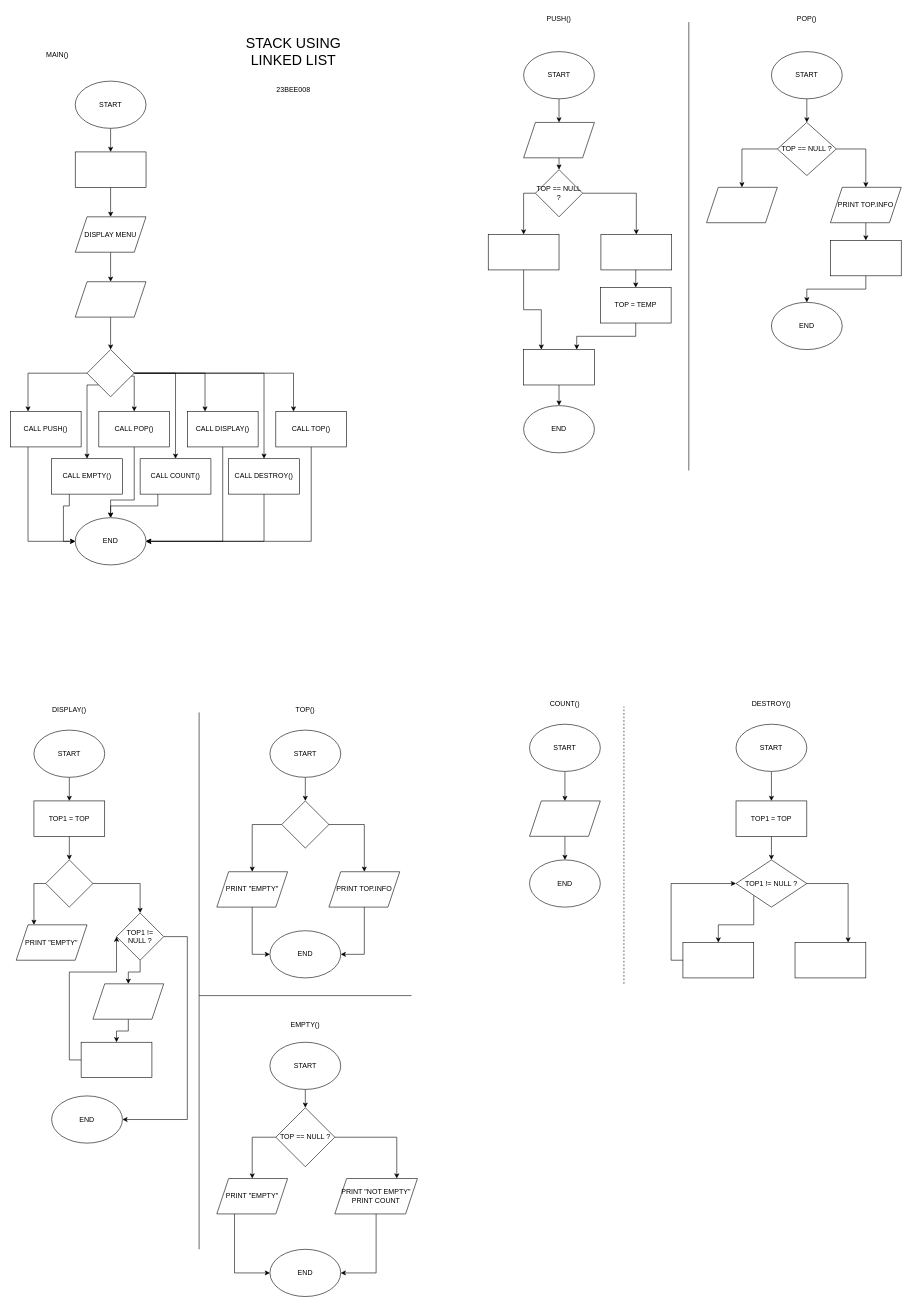
Some shapes in this 912 by 1307 pixel diagram are drawn without their labels. Here are the shapes that lost their labels. From the top down, the centre of each, then its label:
the point at 558,140: GET DATA
the point at 110,169: TOP = NULL COUNT = 0
the point at 741,205: PRINT "EMPTY STACK"
the point at 523,252: CREATE NODE TOP.INFO = DATA TOP.NEXT = NULL
the point at 636,252: CREATE TEMP NODE TEMP.INFO = DATA TEMP.NEXT = TOP
the point at 865,258: TEMP = TOP.NEXT FREE(TOP) TOP = TEMP COUNT --
the point at 110,299: READ CHOICE
the point at 110,373: CHECK CHOICE
the point at 558,367: COUNT++
the point at 305,824: TOP == NULL?
the point at 564,818: PRINT COUNT
the point at 69,883: TOP1 == NULL ?
the point at 718,960: TOP1 = TOP.NEXT FREE(TOP) TOP = TOP1 TOP1 = TOP1.NEXT
the point at 830,960: TOP = NULL COUNT = 0 PRINT "DESTROYED"
the point at 128,1001: PRINT TOP1.INFO
the point at 116,1060: TOP1 = TOP1.NEXT
